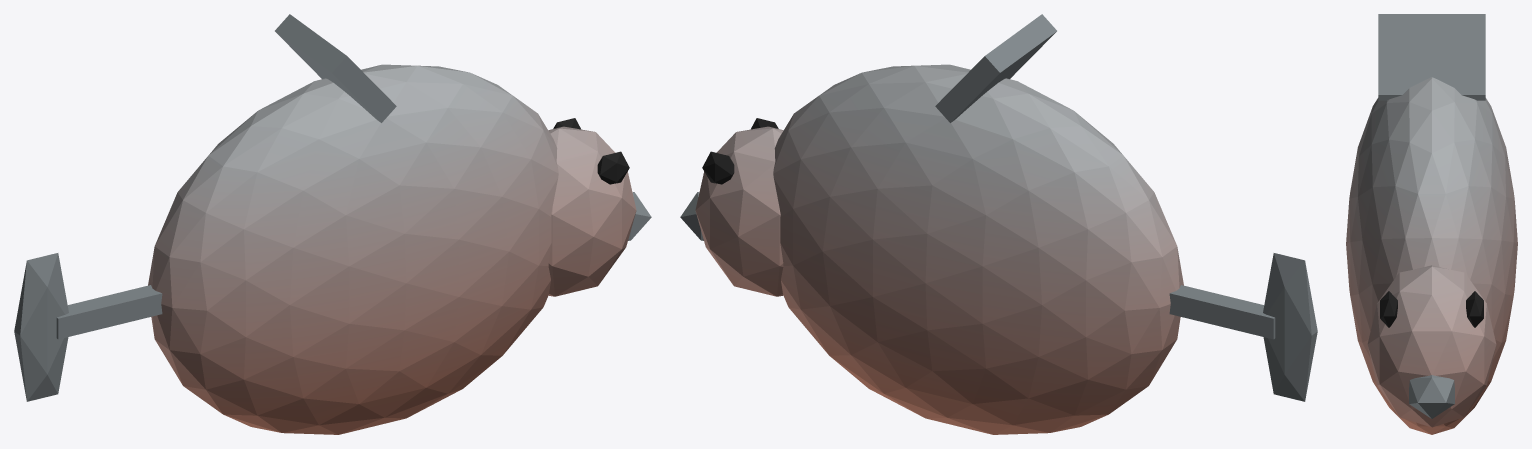
Rendered from piranha_lowpoly.glb.
3 renders of one model, left to right at view 1: azimuth 30°, elevation 25°; view 2: azimuth 150°, elevation 25°; view 3: azimuth 270°, elevation 25°, orthographic. The views are drawn at different scales.
Visible parts, largest first — view 1: body, tail; view 2: body, tail; view 3: body.
Part boxes in pixels (left/top/right/bottom): body: left=148, top=14, right=651, bottom=434; tail: left=14, top=253, right=162, bottom=401; body: left=680, top=14, right=1183, bottom=434; tail: left=1169, top=253, right=1317, bottom=401; body: left=1346, top=14, right=1517, bottom=434.
Bounding box in the file's own units: 1.26 × 0.7728 × 0.32.
